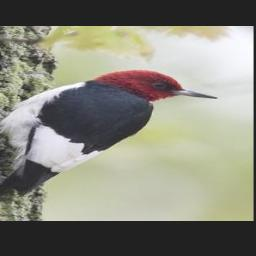Woodpecker: (0, 67, 231, 206)
